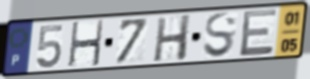5: (34, 22, 65, 69)
7: (117, 16, 152, 65)
E: (238, 7, 279, 59)
H: (152, 13, 193, 64), (67, 19, 106, 69)
S: (201, 11, 239, 60)
